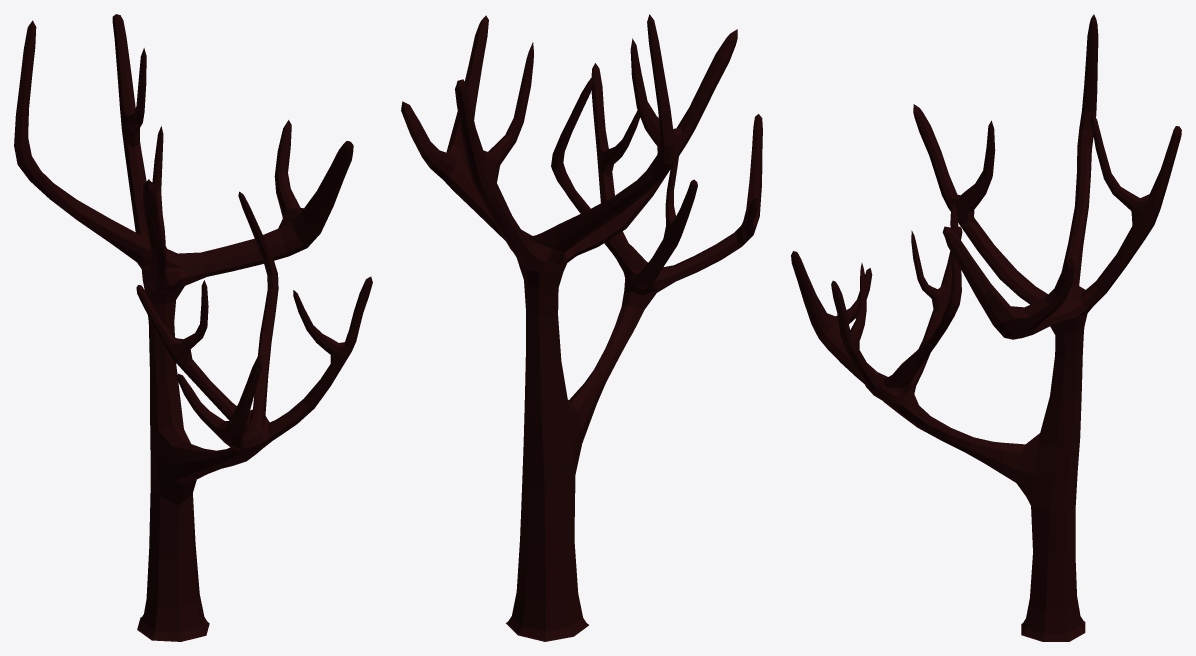
Rendered from dead-tree.glb.
The picture shows the model from 3 angles, left to right: view 1: azimuth 30°, elevation 25°; view 2: azimuth 150°, elevation 25°; view 3: azimuth 270°, elevation 25°; orthographic projection. The views are drawn at different scales.
Parts seen in each view (by area): view 1: CommonTree_Dead_2; view 2: CommonTree_Dead_2; view 3: CommonTree_Dead_2.
Boxes of the visible parts, left/top/right/bottom form: CommonTree_Dead_2: left=14, top=14, right=372, bottom=641; CommonTree_Dead_2: left=401, top=14, right=762, bottom=641; CommonTree_Dead_2: left=791, top=14, right=1181, bottom=641.
Size of the model in its own units: 1.33 by 2.96 by 1.86.
